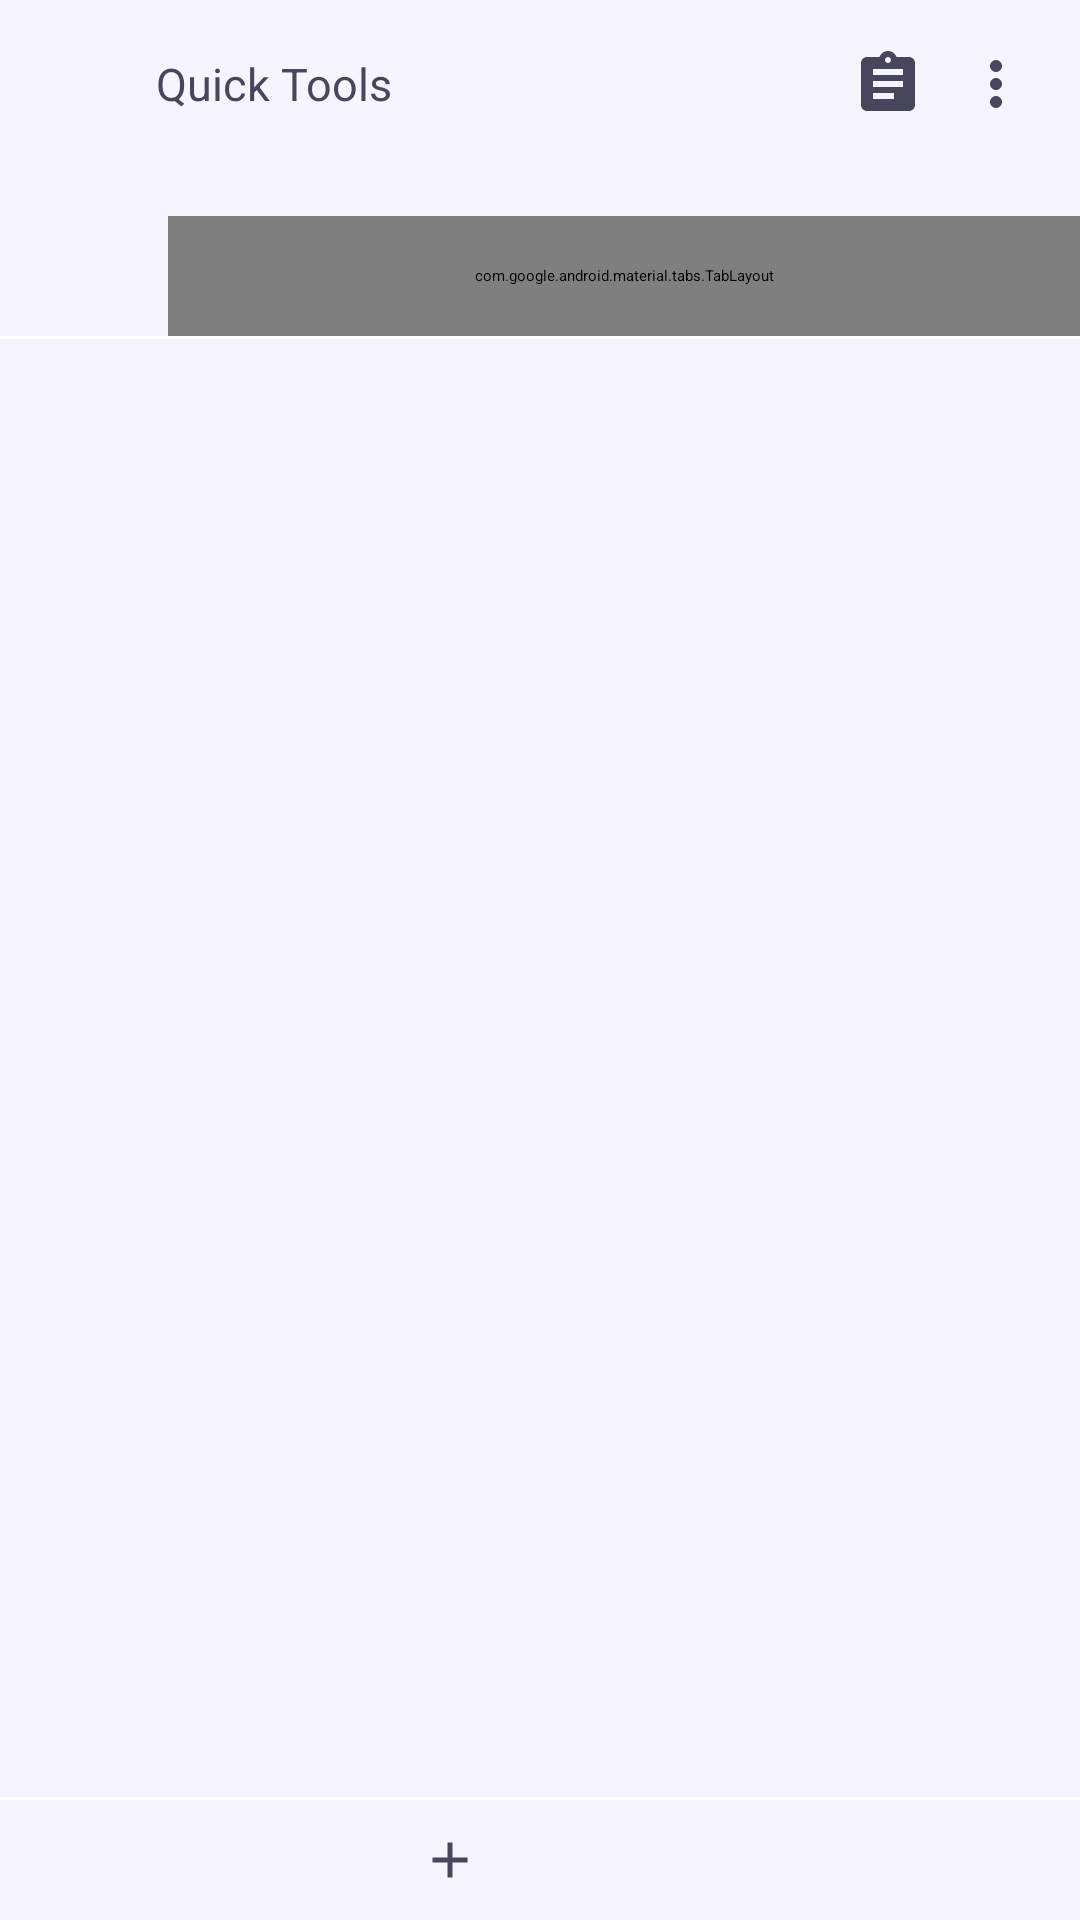

Named icons in this screenshot (1080x1920) and their bounding boxes, (x1, y1, x2, y2):
add: (432, 1842, 468, 1878)
assignment: (861, 51, 915, 111)
more vert: (990, 60, 1002, 108)
